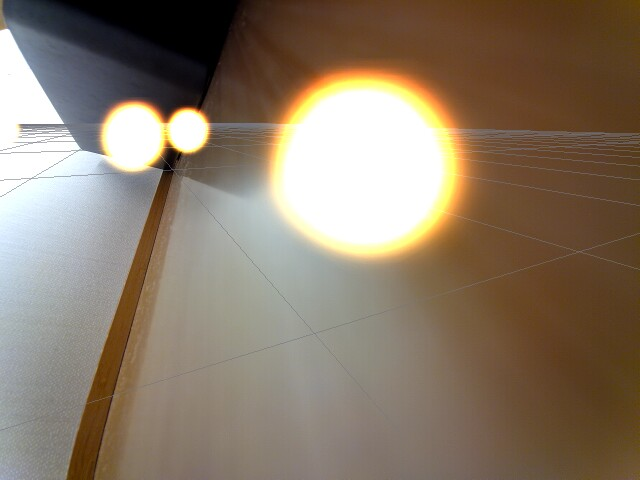firebig: (234, 70, 477, 276)
